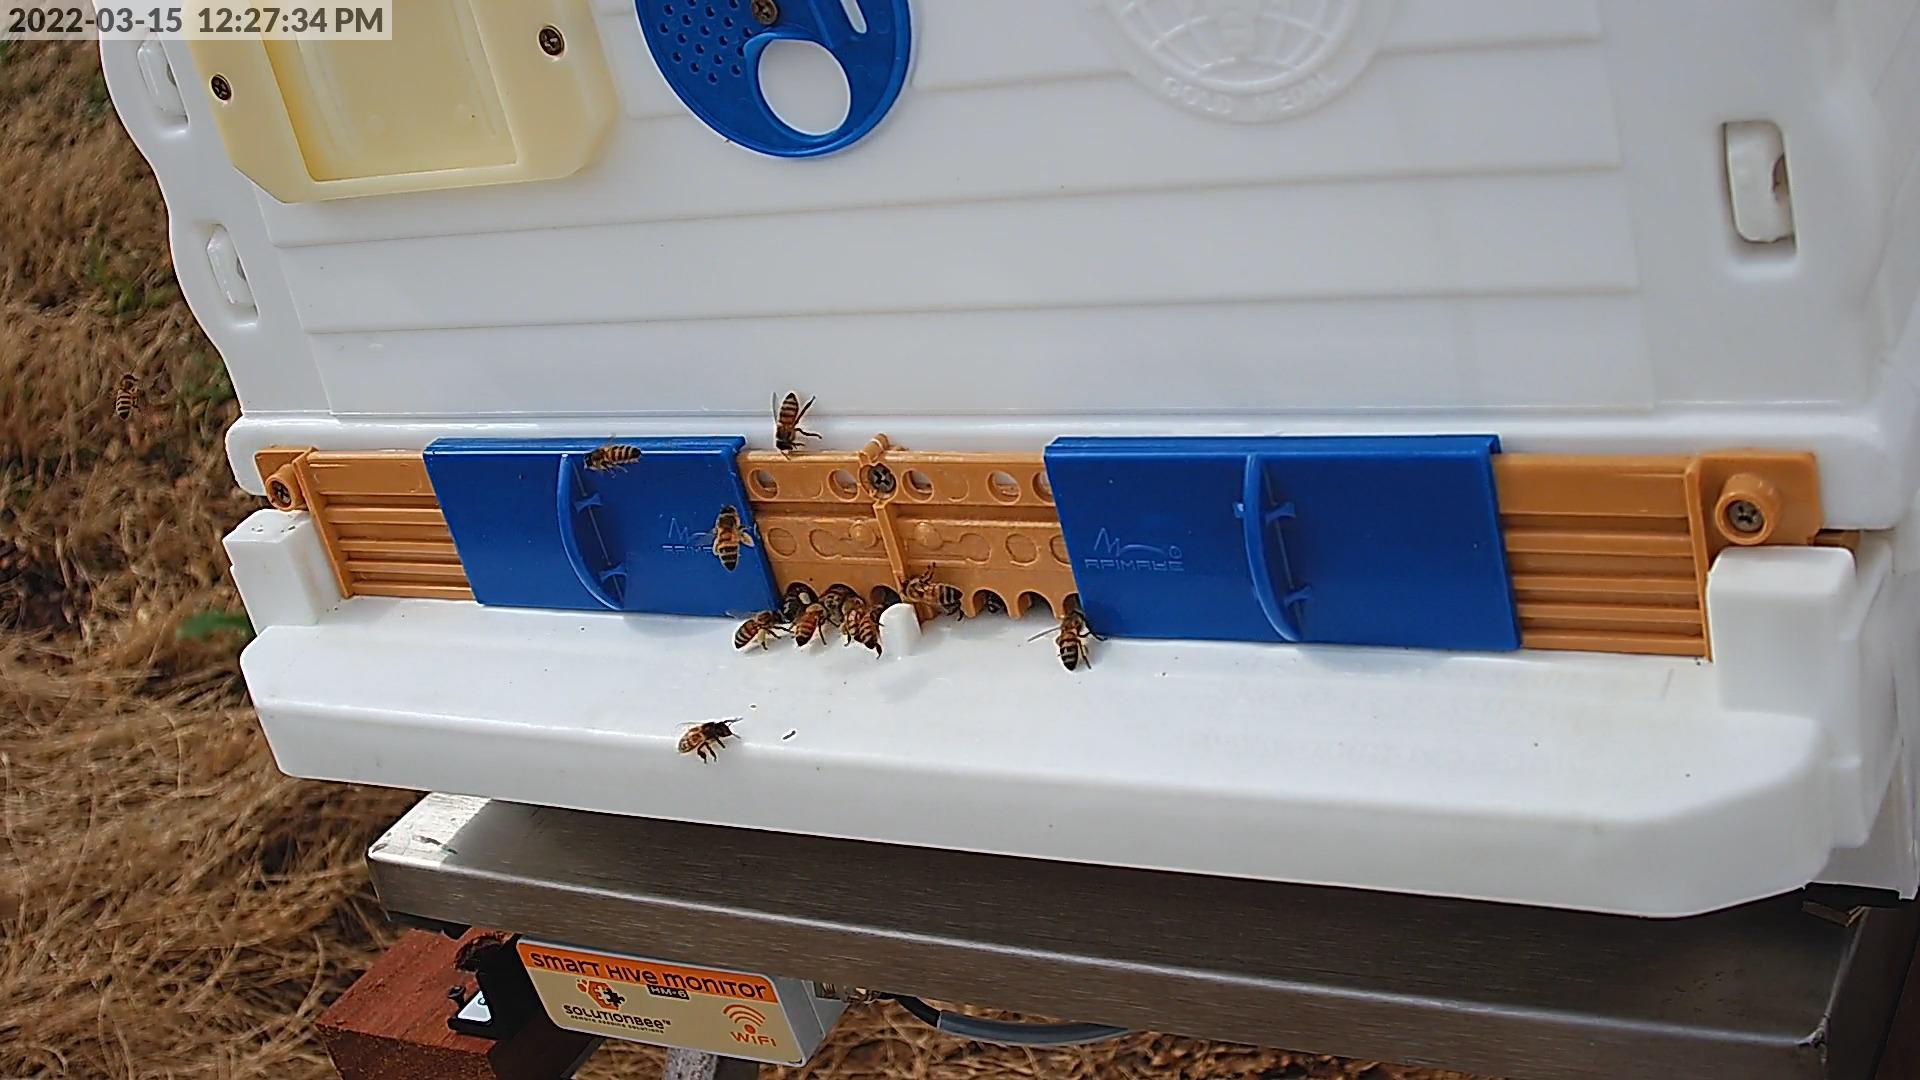bee: (903, 579, 961, 607), (678, 721, 728, 753), (795, 601, 827, 646), (860, 603, 890, 649), (775, 393, 799, 451), (1059, 612, 1081, 671), (585, 444, 638, 465), (843, 596, 864, 641), (115, 373, 135, 418), (822, 585, 851, 608), (985, 588, 1005, 613)
pollenbee: (712, 506, 752, 571), (728, 609, 774, 649), (778, 585, 807, 618)
